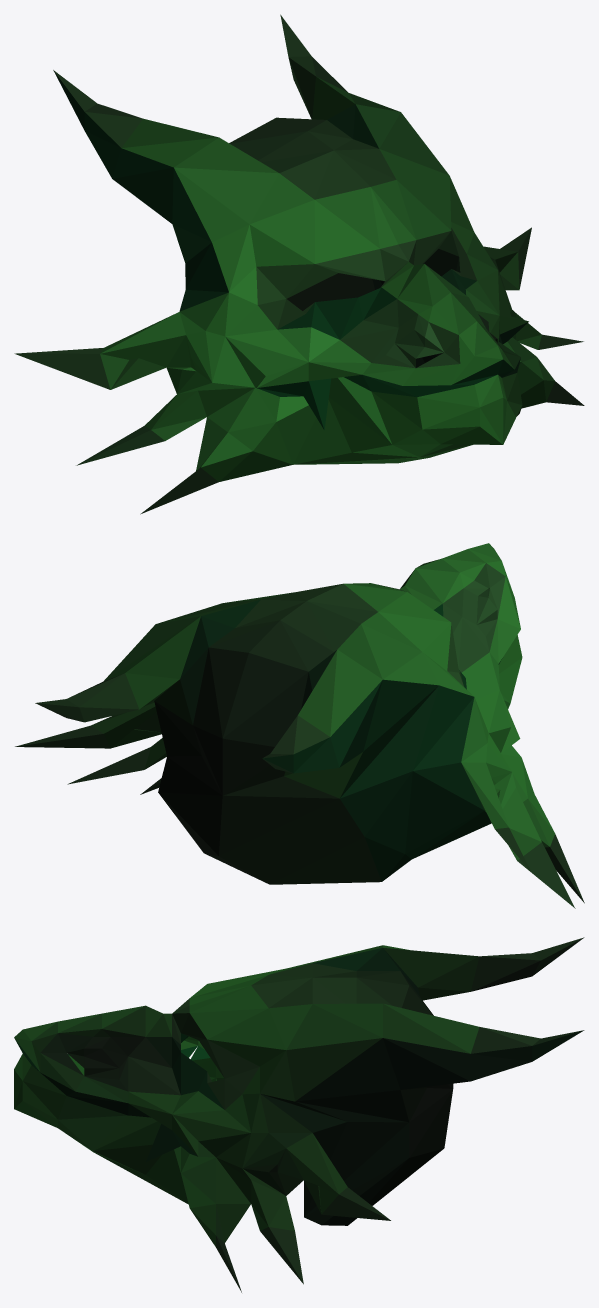
File: green-dragon-mask.obj
3 views of the same model, one above another, from view 1: azimuth 30°, elevation 25°; view 2: azimuth 150°, elevation 25°; view 3: azimuth 270°, elevation 25° (orthographic). The views are drawn at different scales.
Visible parts, largest first — view 1: Item Green dragon mask 2026-09-24_17-10-21; view 2: Item Green dragon mask 2026-09-24_17-10-21; view 3: Item Green dragon mask 2026-09-24_17-10-21.
Boxes of the visible parts, x1,y1,x2,y2 form: Item Green dragon mask 2026-09-24_17-10-21: (14, 14, 584, 514); Item Green dragon mask 2026-09-24_17-10-21: (15, 543, 584, 908); Item Green dragon mask 2026-09-24_17-10-21: (14, 937, 584, 1292).
Size of the model in its own units: 57 by 29 by 65.
